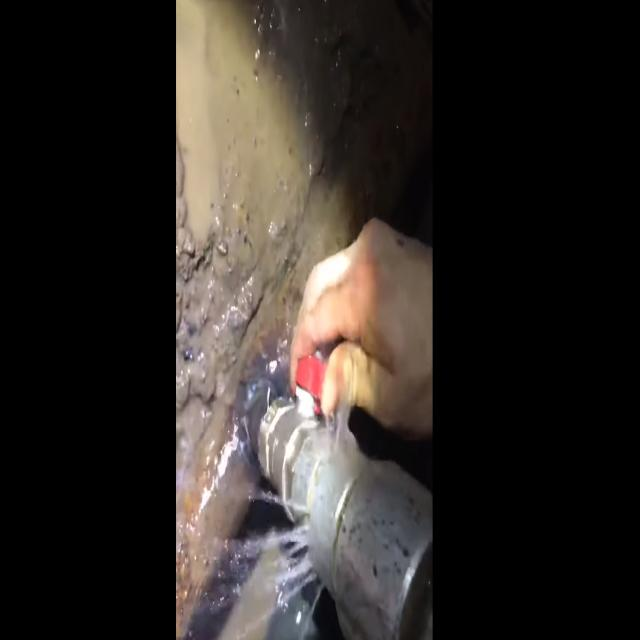leak: (185, 526, 321, 638)
